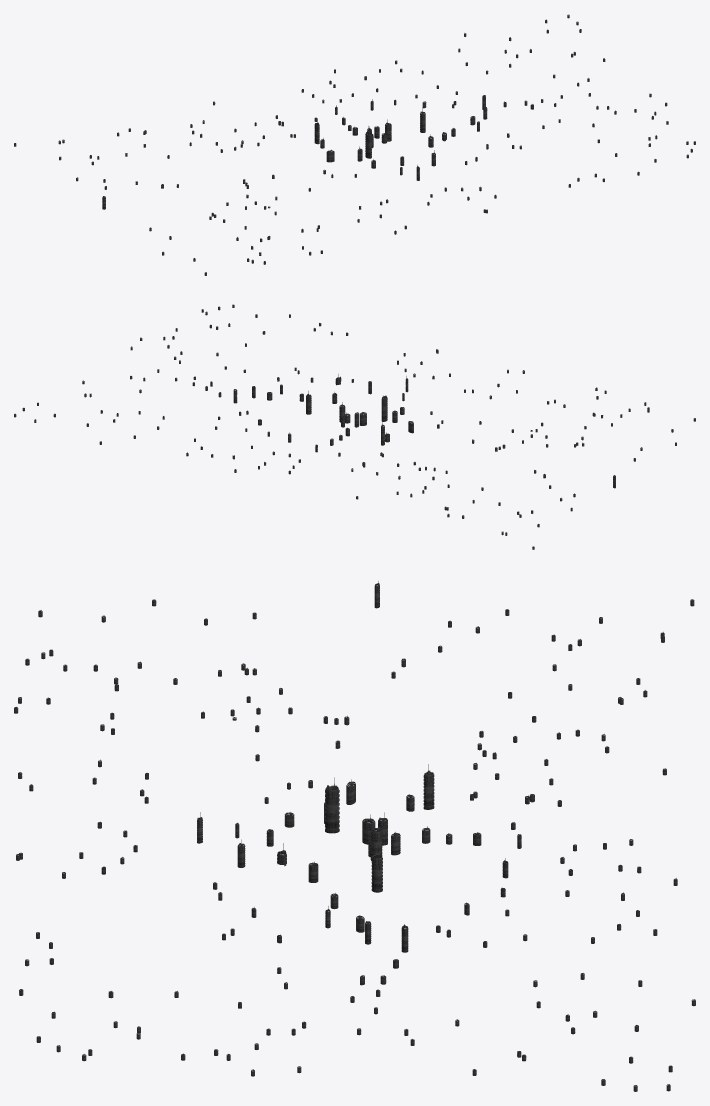
3 renders of one model, top to bottom at view 1: azimuth 30°, elevation 25°; view 2: azimuth 150°, elevation 25°; view 3: azimuth 270°, elevation 25°, orthographic. The views are drawn at different scales.
Parts seen in each view (by area): view 1: Scatter city_SC low-poly building facade_0.023, Scatter city_SC low-poly building facade_0.021, Scatter city_SC low-poly building facade_0.025, Scatter city_SC low-poly building facade_0.026, Scatter city_SC low-poly building facade_0.024, Scatter city_SC low-poly building facade_0.022; view 2: Scatter city_SC low-poly building facade_0.023, Scatter city_SC low-poly building facade_0.025, Scatter city_SC low-poly building facade_0.024, Scatter city_SC low-poly building facade_0.021, Scatter city_SC low-poly building facade_0.022, Scatter city_SC low-poly building facade_0.026; view 3: Scatter city_SC low-poly building facade_0.023, Scatter city_SC low-poly building facade_0.024, Scatter city_SC low-poly building facade_0.021, Scatter city_SC low-poly building facade_0.025, Scatter city_SC low-poly building facade_0.026, Scatter city_SC low-poly building facade_0.022.
Boxes of the visible parts, x1,y1,x2,y2 form: Scatter city_SC low-poly building facade_0.023: (92, 29, 688, 264); Scatter city_SC low-poly building facade_0.021: (58, 49, 656, 263); Scatter city_SC low-poly building facade_0.025: (59, 29, 651, 255); Scatter city_SC low-poly building facade_0.026: (97, 14, 688, 275); Scatter city_SC low-poly building facade_0.024: (103, 21, 695, 261); Scatter city_SC low-poly building facade_0.022: (14, 19, 692, 254); Scatter city_SC low-poly building facade_0.023: (37, 304, 646, 511); Scatter city_SC low-poly building facade_0.025: (53, 332, 676, 527); Scatter city_SC low-poly building facade_0.024: (22, 309, 673, 518); Scatter city_SC low-poly building facade_0.021: (84, 323, 649, 535); Scatter city_SC low-poly building facade_0.022: (34, 306, 606, 549); Scatter city_SC low-poly building facade_0.026: (14, 311, 695, 514); Scatter city_SC low-poly building facade_0.023: (18, 634, 638, 1085); Scatter city_SC low-poly building facade_0.024: (79, 615, 666, 1091); Scatter city_SC low-poly building facade_0.021: (14, 632, 677, 1061); Scatter city_SC low-poly building facade_0.025: (19, 599, 695, 1075); Scatter city_SC low-poly building facade_0.026: (16, 581, 670, 1091); Scatter city_SC low-poly building facade_0.022: (18, 599, 694, 1072).
Size of the model in its own units: 49.93 by 2.7 by 29.57.
1 material, 1 textured.
